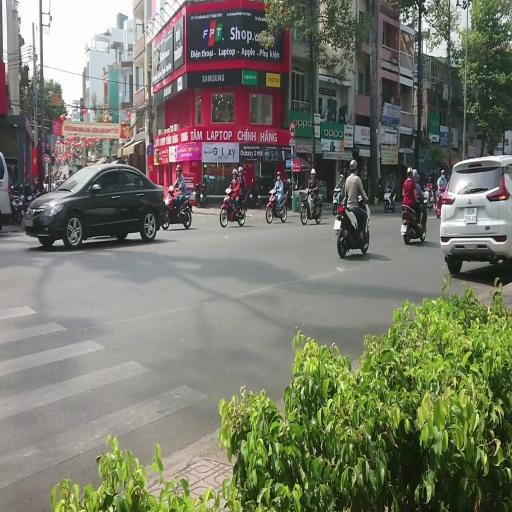bikes: (334, 198, 370, 258), (9, 180, 46, 225), (400, 197, 427, 244), (162, 187, 192, 229), (220, 189, 246, 227), (299, 187, 322, 225), (266, 188, 288, 223), (8, 182, 25, 224), (245, 178, 261, 207), (332, 186, 344, 216), (434, 186, 445, 218), (383, 186, 396, 213), (422, 184, 435, 210), (194, 182, 206, 207), (52, 170, 66, 190), (244, 186, 254, 207)
helmet: (350, 158, 358, 170), (412, 168, 418, 179), (176, 164, 182, 172), (232, 168, 238, 176), (168, 185, 174, 193), (225, 188, 232, 194), (407, 167, 412, 175), (238, 166, 243, 174), (310, 168, 316, 174), (416, 174, 420, 182), (268, 189, 274, 194), (440, 169, 444, 176), (339, 174, 343, 180), (277, 171, 281, 177), (428, 183, 432, 189), (389, 174, 393, 179), (268, 188, 272, 193), (428, 176, 432, 180), (429, 172, 433, 176), (252, 178, 254, 184)
